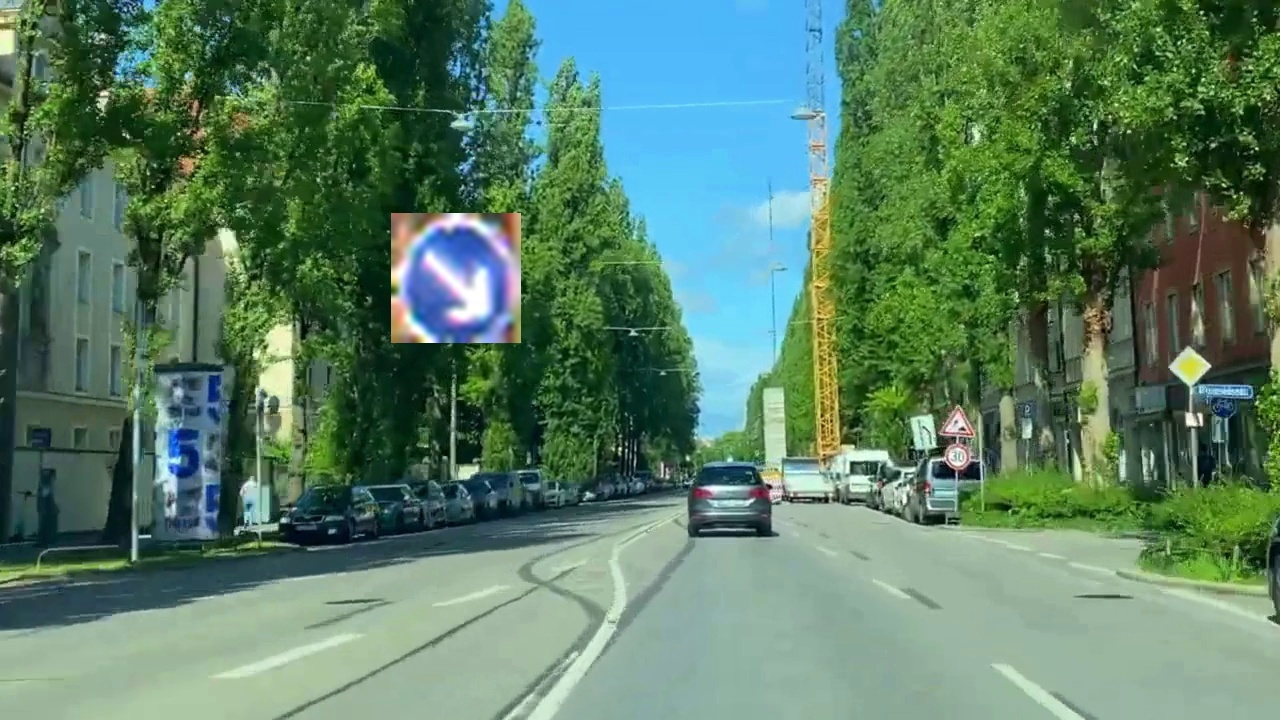Keep right: (391, 213, 521, 343)
